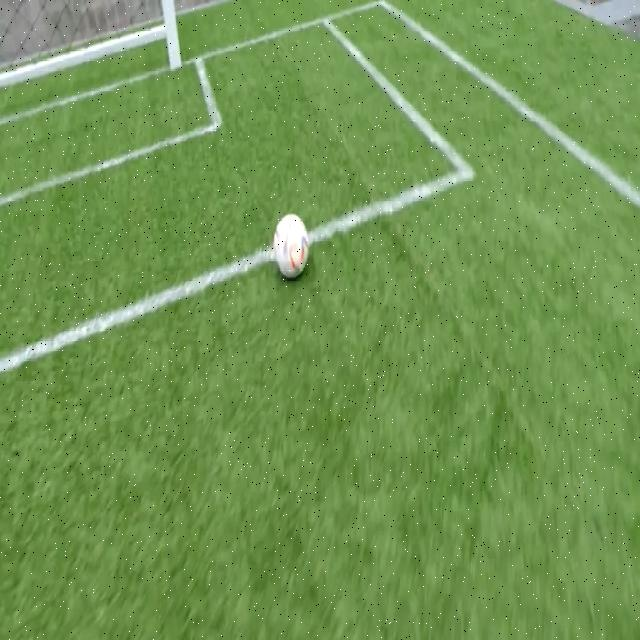ball: (273, 215, 309, 277)
goalpost: (166, 18, 186, 73)
